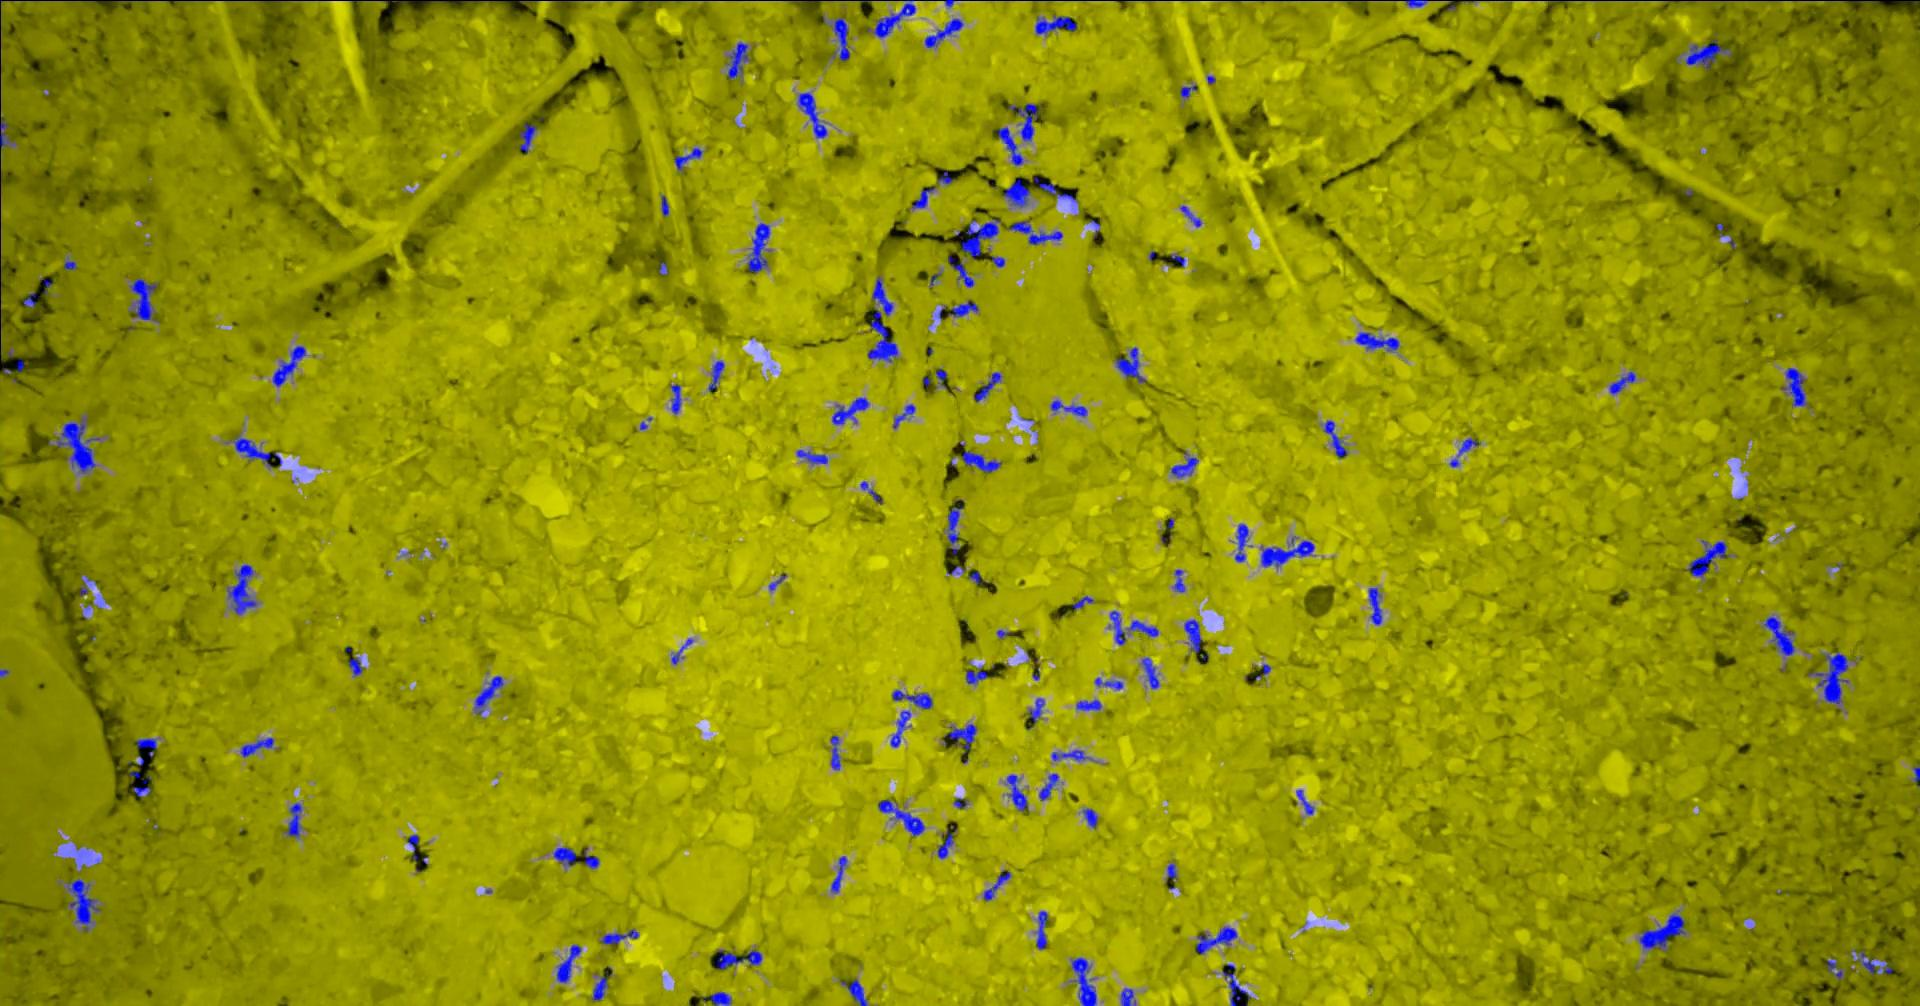ant: (867, 276, 897, 361), (56, 420, 99, 473), (1807, 652, 1848, 702), (877, 799, 924, 836), (67, 878, 99, 931), (1639, 909, 1684, 948), (1688, 539, 1730, 577), (1260, 537, 1314, 567), (872, 0, 916, 37), (234, 434, 281, 467), (960, 218, 999, 258), (226, 564, 257, 614), (272, 345, 305, 386), (1685, 39, 1731, 69), (1007, 220, 1062, 244), (797, 91, 825, 137), (1763, 616, 1794, 655), (1070, 956, 1096, 1005), (128, 278, 157, 320), (1008, 103, 1041, 140), (1195, 926, 1237, 954), (747, 222, 770, 273), (1115, 345, 1145, 382), (924, 18, 963, 47), (474, 674, 502, 714), (1222, 963, 1247, 1005), (942, 723, 977, 753), (1851, 949, 1892, 974), (996, 127, 1022, 165), (830, 398, 869, 424), (1032, 177, 1076, 199), (1782, 367, 1806, 405), (556, 944, 580, 982), (716, 949, 761, 969), (961, 450, 1001, 473), (1323, 420, 1347, 457), (1449, 438, 1479, 466), (1006, 774, 1029, 810), (1355, 332, 1398, 351), (973, 372, 1001, 401), (983, 870, 1010, 901), (947, 255, 973, 287), (726, 41, 748, 77), (1002, 178, 1029, 207), (946, 506, 963, 553), (1035, 15, 1076, 34), (891, 688, 932, 708), (832, 17, 850, 60), (890, 710, 910, 747), (841, 978, 867, 1005), (590, 967, 611, 1000), (673, 147, 702, 170), (240, 737, 273, 756), (830, 855, 847, 893), (1050, 400, 1087, 417), (937, 826, 956, 857), (284, 801, 301, 837), (599, 929, 637, 944), (1609, 371, 1636, 392), (670, 638, 692, 664), (1170, 457, 1197, 478), (1109, 610, 1125, 644), (910, 185, 935, 208), (891, 404, 916, 427), (1183, 619, 1200, 652), (1037, 774, 1058, 800), (1234, 523, 1248, 561), (1142, 657, 1158, 688), (860, 480, 883, 503), (947, 298, 977, 316), (1368, 587, 1382, 624), (552, 847, 579, 866), (1128, 620, 1158, 636), (1035, 909, 1048, 949), (1178, 205, 1201, 226), (709, 359, 724, 391), (519, 123, 536, 152), (796, 448, 827, 464), (1297, 789, 1313, 814), (135, 738, 156, 757), (132, 775, 151, 796), (965, 669, 993, 683), (703, 991, 731, 1005), (1029, 699, 1044, 724), (0, 116, 11, 149), (1051, 749, 1087, 760), (1826, 958, 1843, 979), (830, 735, 841, 768), (1095, 677, 1123, 688), (670, 384, 681, 414), (406, 835, 419, 859), (1076, 699, 1101, 710), (1082, 808, 1097, 827), (583, 848, 598, 868), (1072, 594, 1092, 608), (1120, 987, 1135, 1005), (1166, 862, 1176, 888), (348, 657, 362, 674), (935, 368, 947, 387), (1173, 569, 1183, 591), (22, 292, 36, 307), (1178, 85, 1196, 97), (1404, 0, 1427, 8), (937, 171, 952, 183), (952, 796, 966, 808), (660, 196, 668, 216), (990, 257, 1004, 267)
